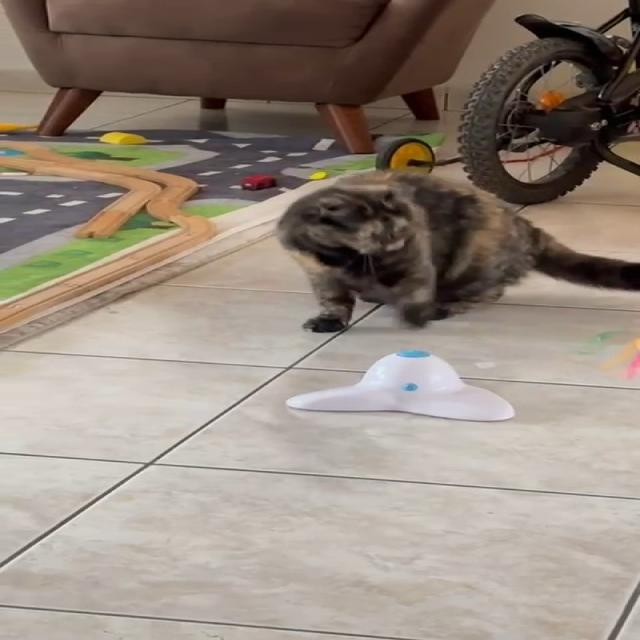authorized: (273, 167, 639, 333)
